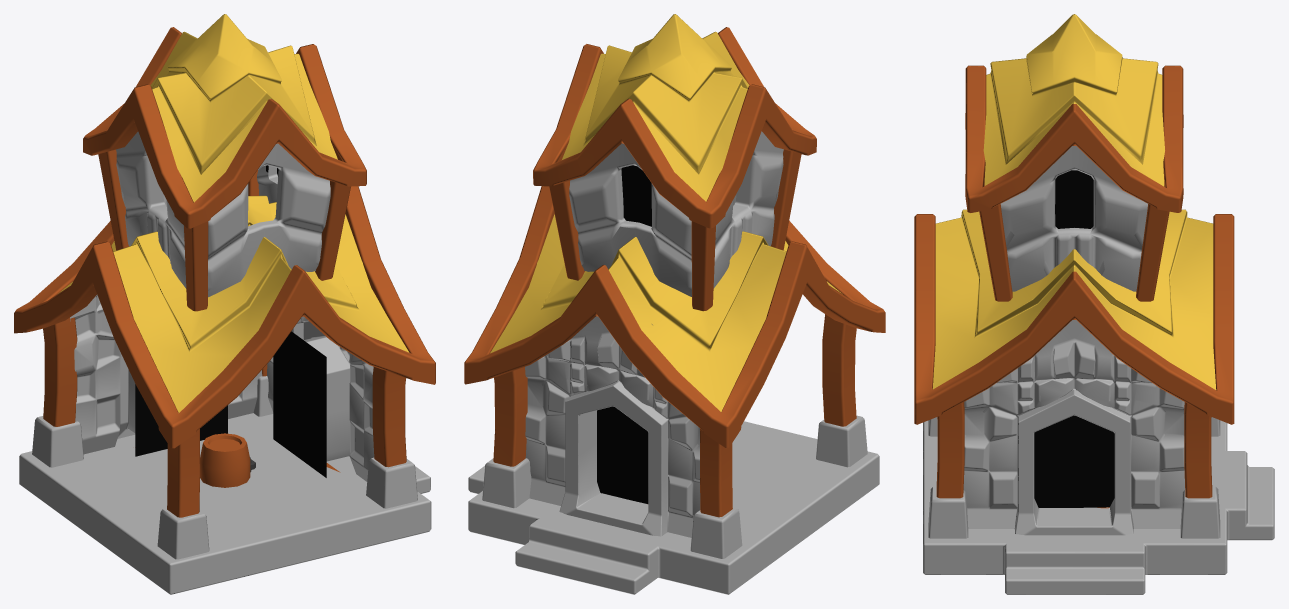
Rendered from Townhall.fbx.
3 renders of one model, left to right at view 1: azimuth 30°, elevation 25°; view 2: azimuth 150°, elevation 25°; view 3: azimuth 270°, elevation 25°, orthographic.
Parts seen in each view (by area): view 1: Cube.004, Cube.009, Cube.003, Cube.005, Cube.001, Cube.007, Cube.010, Cylinder; view 2: Cube.004, Cube.003, Cube.009, Cube.005, Cube.001, Cube.007, Cube.010, Cube.006; view 3: Cube.005, Cube.004, Cube.003, Cube.001, Cube.009, Cube.007, Cube.010, Cube.006.
Boxes of the visible parts, left/top/right/bottom form: Cube.004: left=83, top=27, right=366, bottom=311; Cube.009: left=19, top=413, right=431, bottom=594; Cube.003: left=14, top=186, right=435, bottom=517; Cube.005: left=70, top=294, right=374, bottom=481; Cube.001: left=58, top=195, right=409, bottom=412; Cube.007: left=150, top=14, right=337, bottom=202; Cube.010: left=32, top=376, right=417, bottom=559; Cylinder: left=200, top=433, right=250, bottom=487; Cube.004: left=533, top=27, right=816, bottom=311; Cube.003: left=464, top=186, right=885, bottom=517; Cube.009: left=468, top=421, right=879, bottom=594; Cube.005: left=525, top=316, right=700, bottom=537; Cube.001: left=490, top=214, right=841, bottom=411; Cube.007: left=562, top=14, right=749, bottom=201; Cube.010: left=482, top=415, right=867, bottom=558; Cube.006: left=621, top=165, right=651, bottom=226; Cube.005: left=963, top=320, right=1185, bottom=535; Cube.004: left=965, top=65, right=1183, bottom=301; Cube.003: left=914, top=214, right=1234, bottom=498; Cube.001: left=932, top=209, right=1216, bottom=389; Cube.009: left=923, top=420, right=1274, bottom=594; Cube.007: left=983, top=14, right=1164, bottom=186; Cube.010: left=928, top=417, right=1220, bottom=538; Cube.006: left=1055, top=170, right=1093, bottom=228.
Size of the model in its own units: 593 by 981 by 603.
